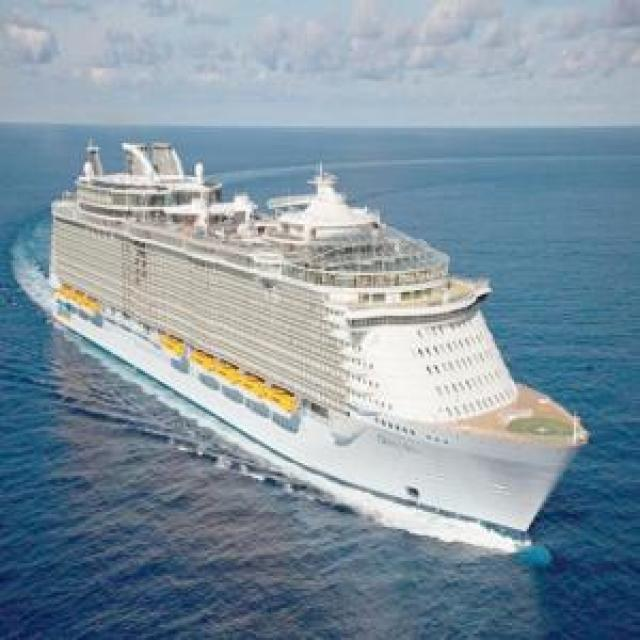passenger ship: (40, 131, 591, 546)
